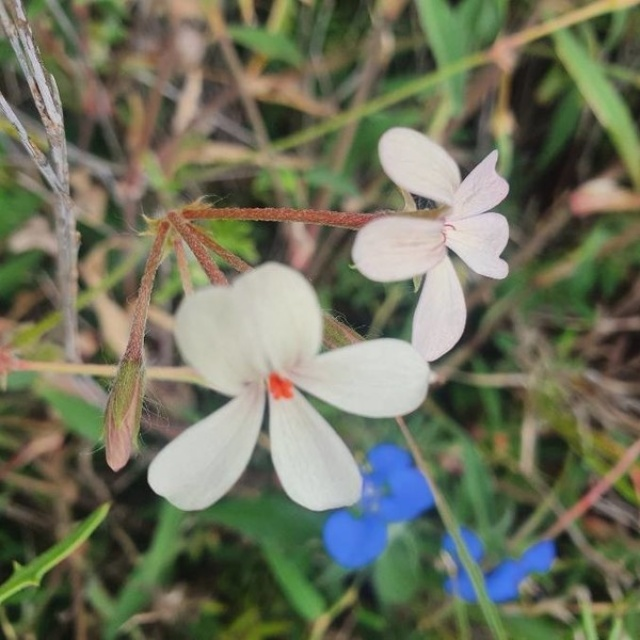obstacle: (101, 127, 519, 527)
